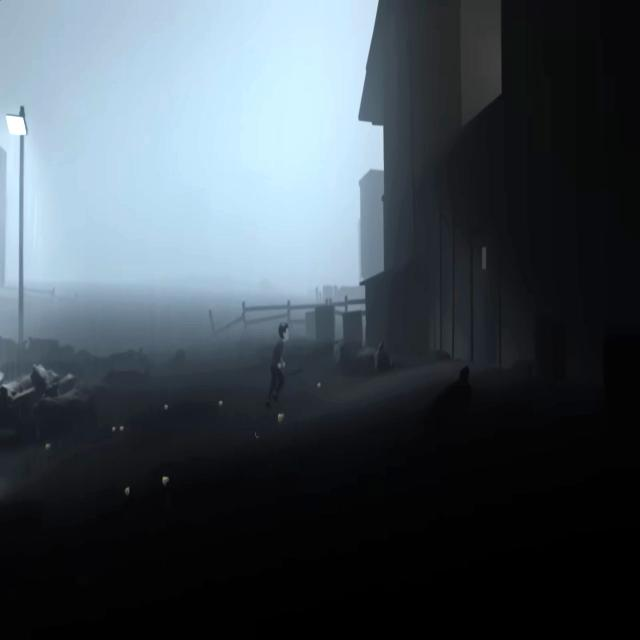boy: (266, 323, 289, 408)
